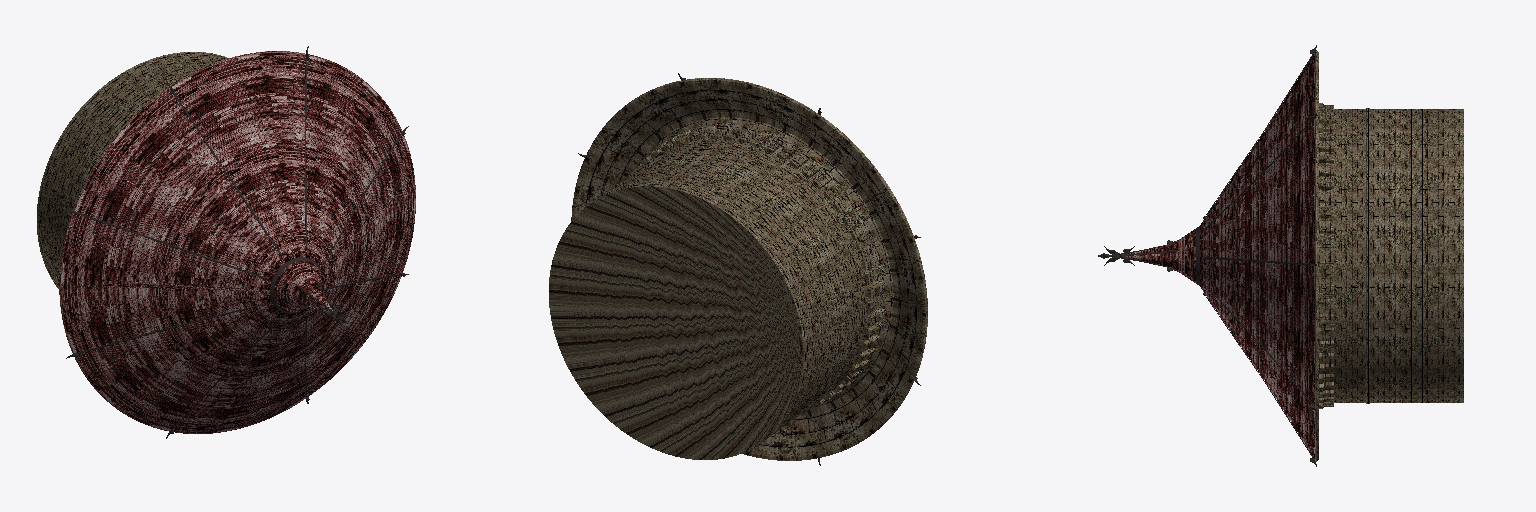
3 views of the same model, side by side, from view 1: azimuth 30°, elevation 25°; view 2: azimuth 150°, elevation 25°; view 3: azimuth 270°, elevation 25° (orthographic).
Parts seen in each view (by area): view 1: Object__0; view 2: Object__0; view 3: Object__0.
Boxes of the visible parts, x1=… form: Object__0: x1=37, y1=46, x2=415, y2=438; Object__0: x1=549, y1=73, x2=927, y2=465; Object__0: x1=1098, y1=45, x2=1463, y2=466.
Bounding box in the file's own units: 76 × 76 × 67.92.
Materials: 4 (2 with a texture image).